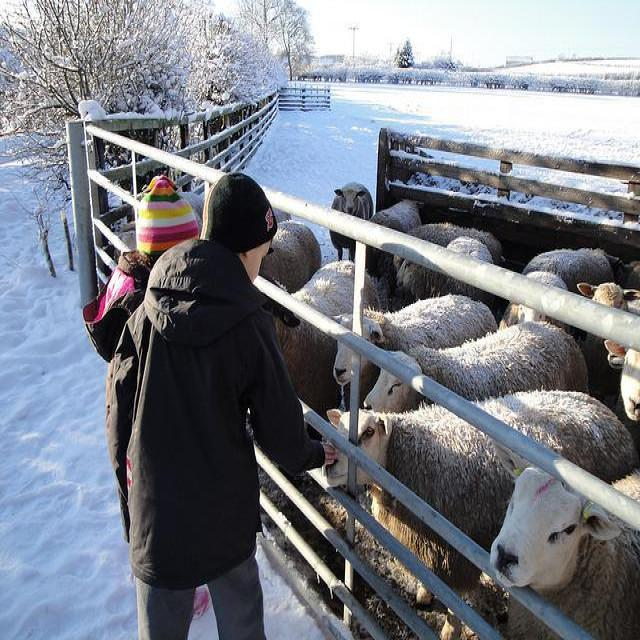Sheep: (79, 172, 506, 639), (322, 389, 639, 639), (489, 438, 639, 638), (364, 319, 592, 412), (264, 261, 389, 419), (330, 294, 498, 386), (397, 236, 498, 312), (366, 197, 423, 283), (499, 270, 570, 334), (263, 219, 321, 293), (332, 182, 373, 258), (603, 340, 639, 424)
